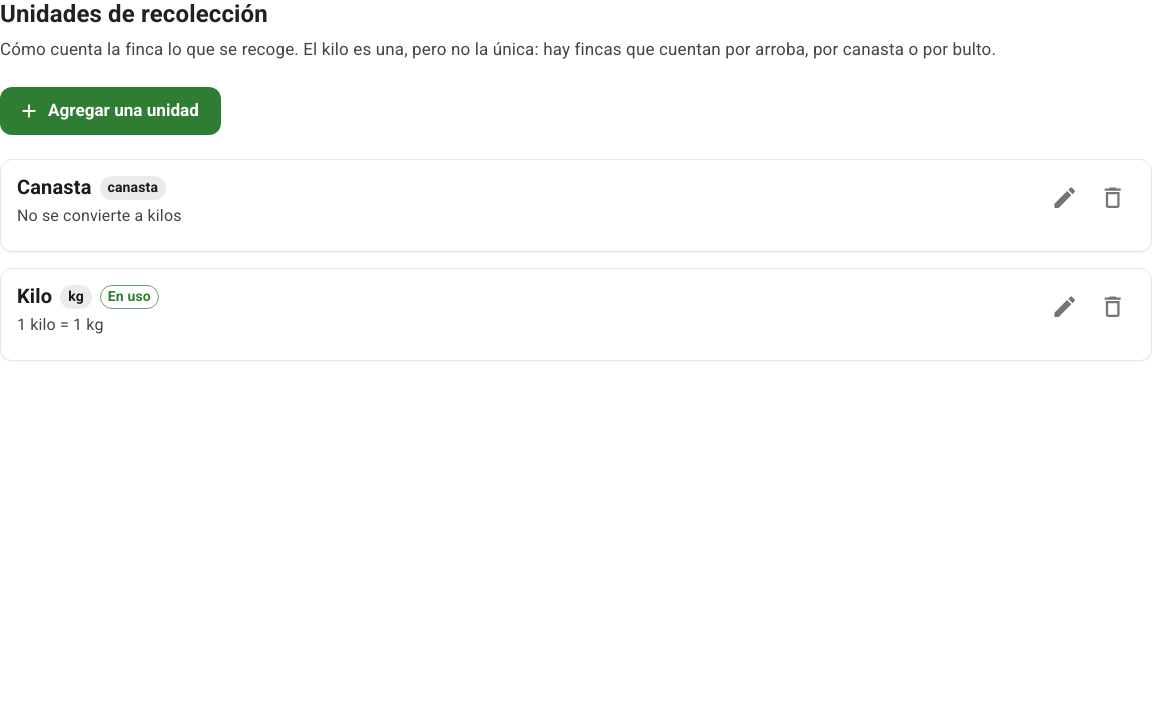
Test: removing a unit › shows the server's refusal, which can be closed
Click the button named "Quitar Canasta".
click(1113, 198)  # box [1091,176,1135,220]
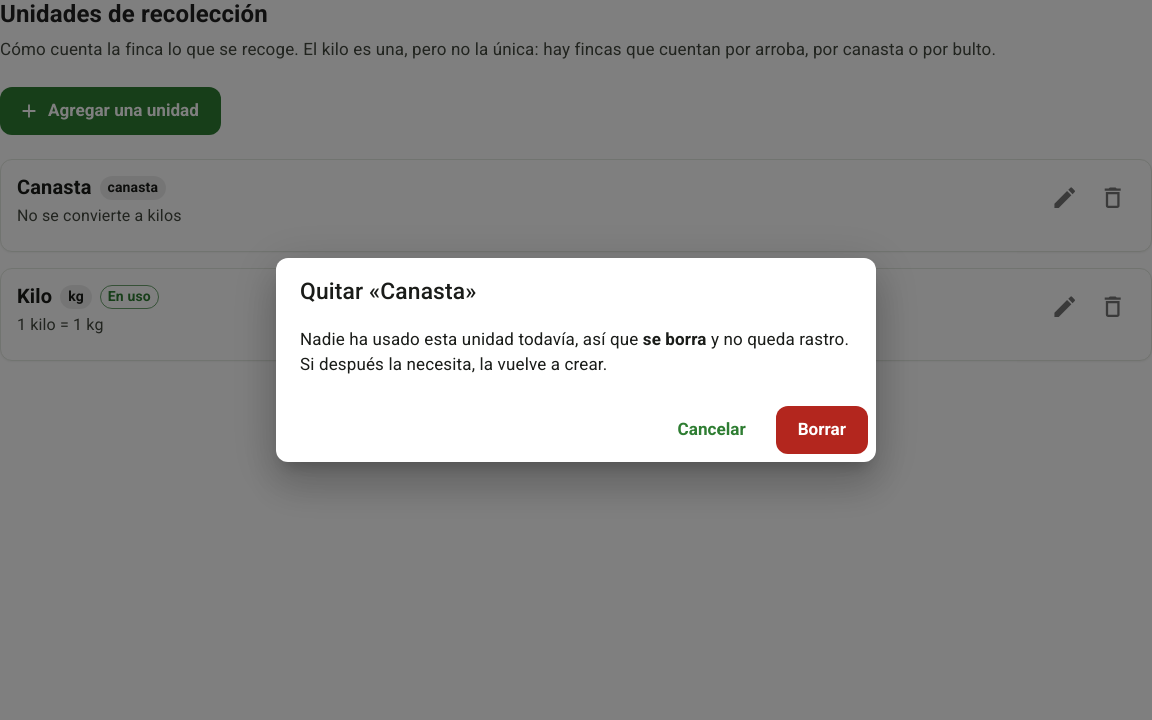
Click the button "Borrar".
click(822, 430)  # box [776,406,868,454]
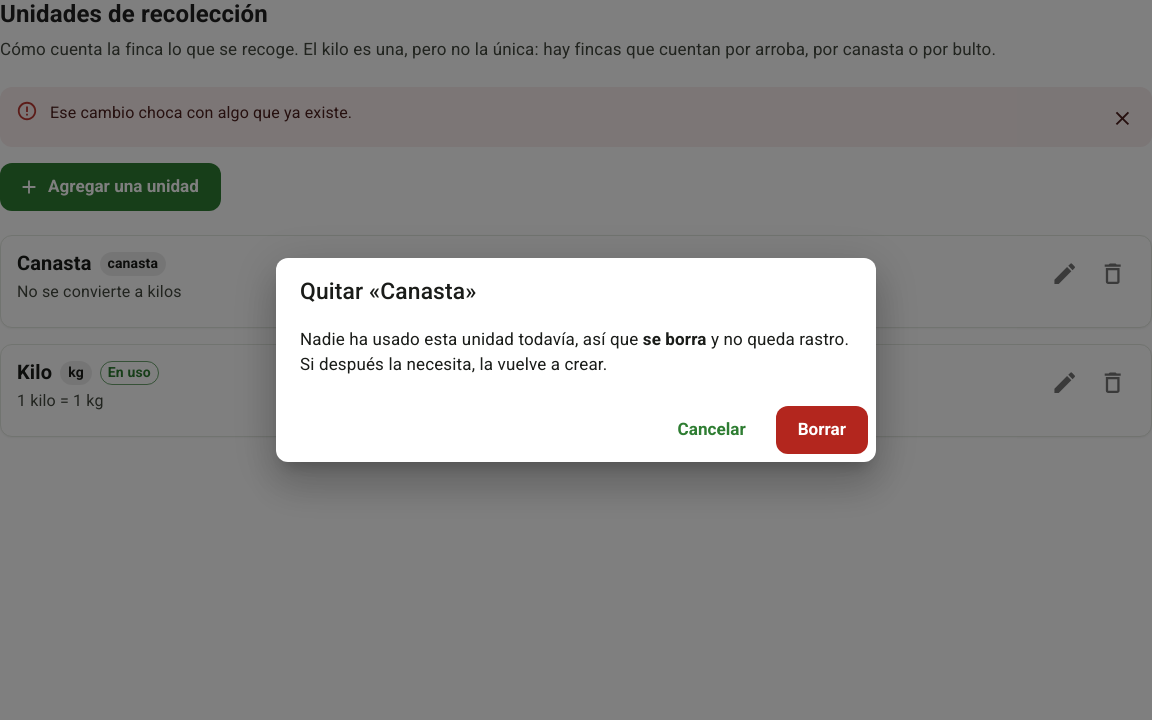
Check: the message "Ese cambio choca con algo que ya existe." is shown, box [0,87,1151,147]
Click the button "Cancelar".
click(712, 430)  # box [656,406,768,454]
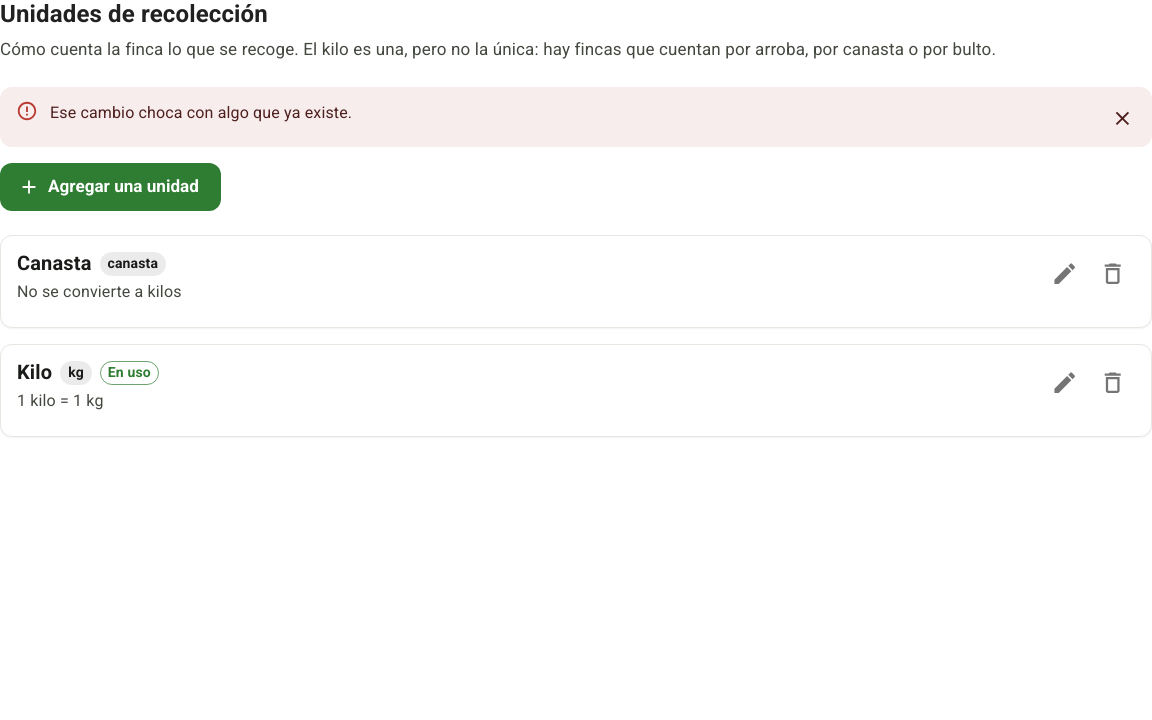
Check: the dialog is gone
Click the button named "Cerrar".
click(1122, 119)  # box [1100,97,1144,141]
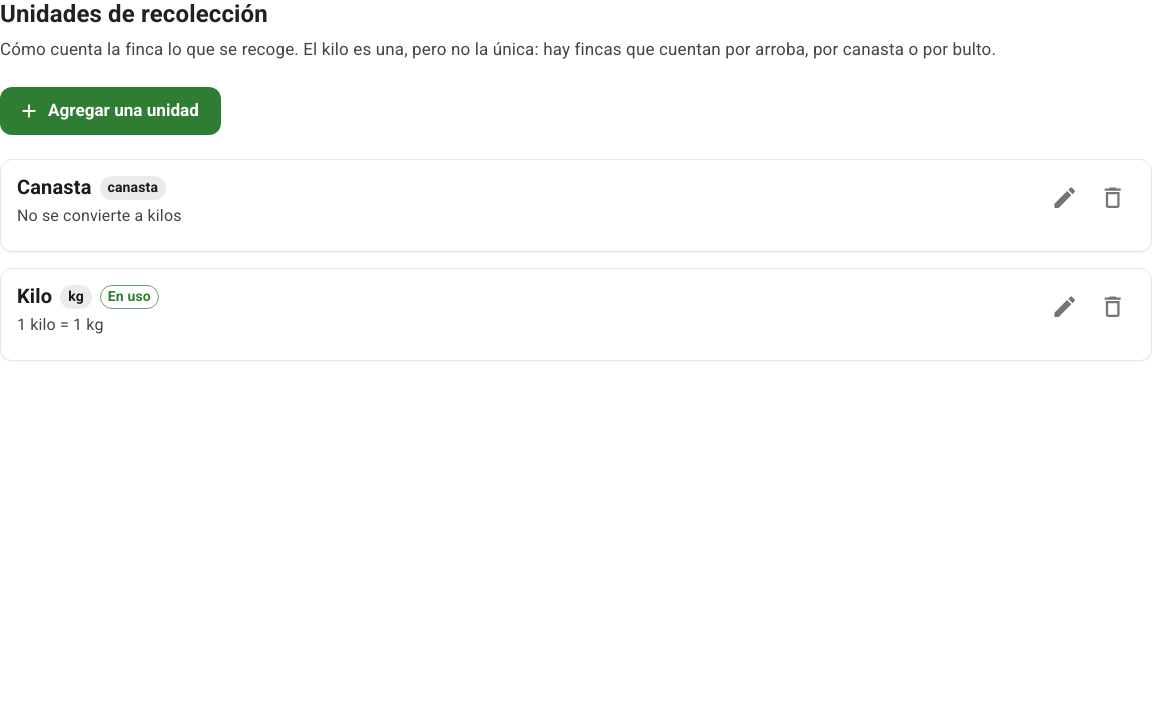
Check: the message "Ese cambio choca con algo que ya existe." is gone
